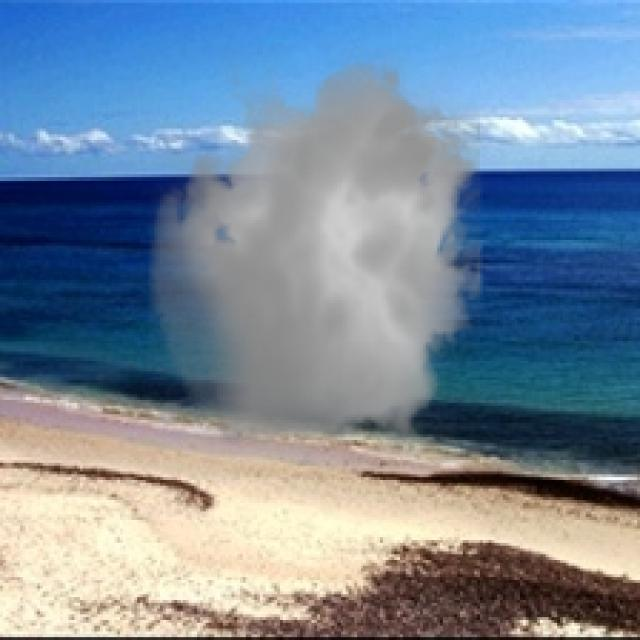smoke: (137, 46, 497, 466)
